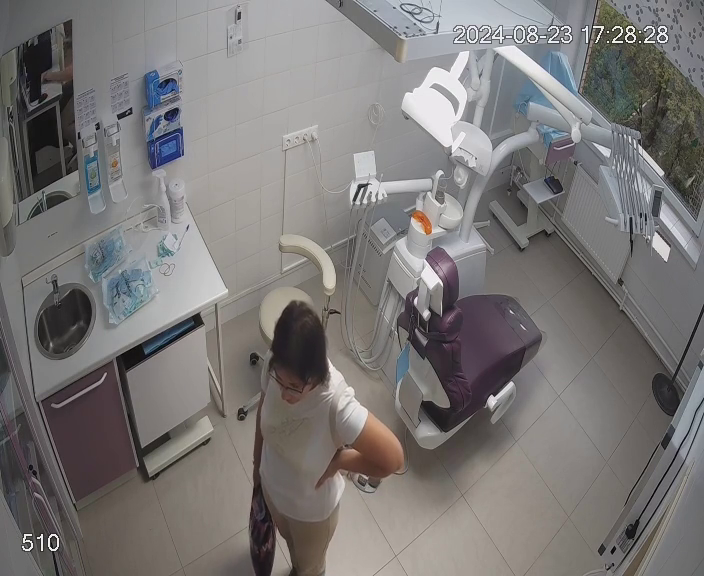Empty: (374, 241, 546, 450)
